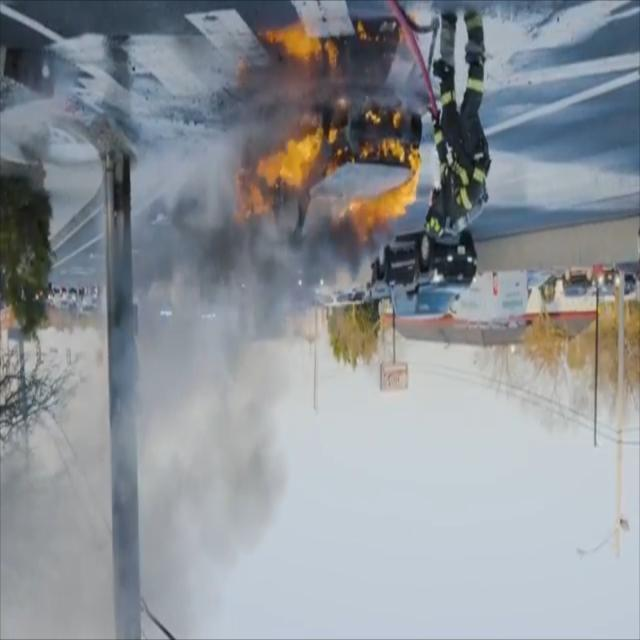fire: (238, 100, 424, 266), (273, 27, 408, 72)
